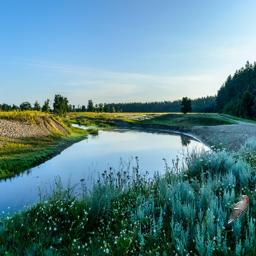Woodpecker: (227, 194, 249, 224)
